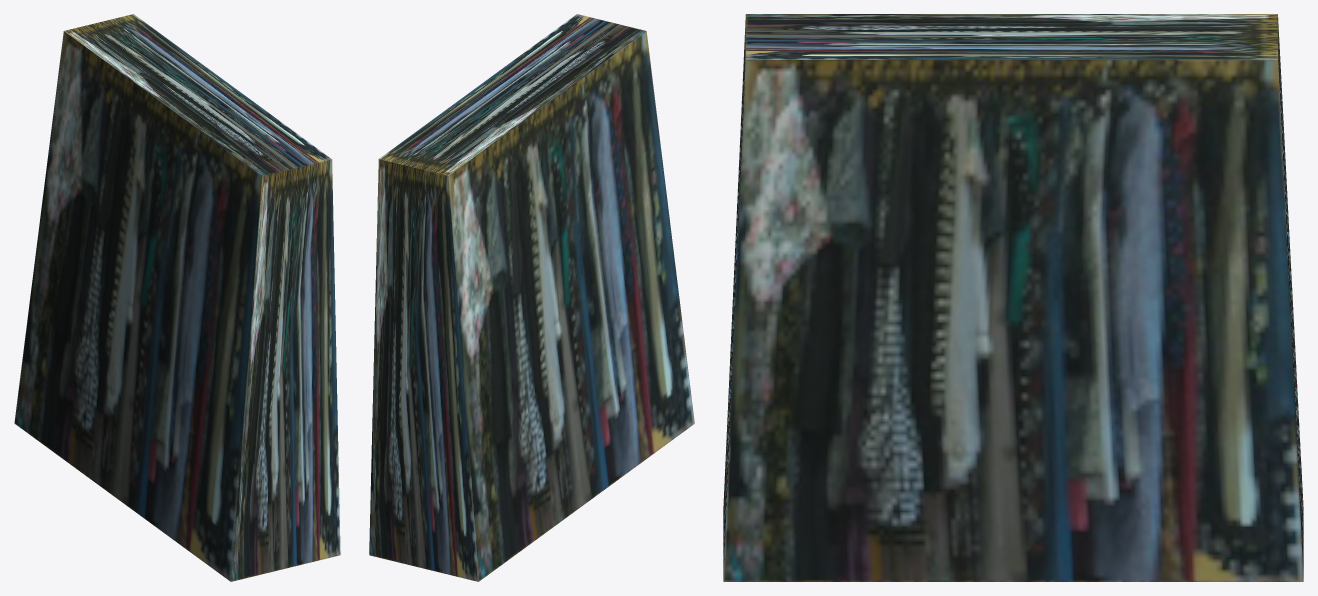
Rendered from cloths.FBX.
3 renders of one model, left to right at view 1: azimuth 30°, elevation 25°; view 2: azimuth 150°, elevation 25°; view 3: azimuth 270°, elevation 25°, orthographic. The views are drawn at different scales.
Parts seen in each view (by area): view 1: Box001; view 2: Box001; view 3: Box001.
Part boxes in pixels (x1,y1,x2,y2): Box001: [14, 14, 340, 581]; Box001: [369, 14, 694, 581]; Box001: [723, 14, 1303, 581].
Bounding box in the file's own units: 9.92 × 33.69 × 33.93.
1 material, 1 textured.
